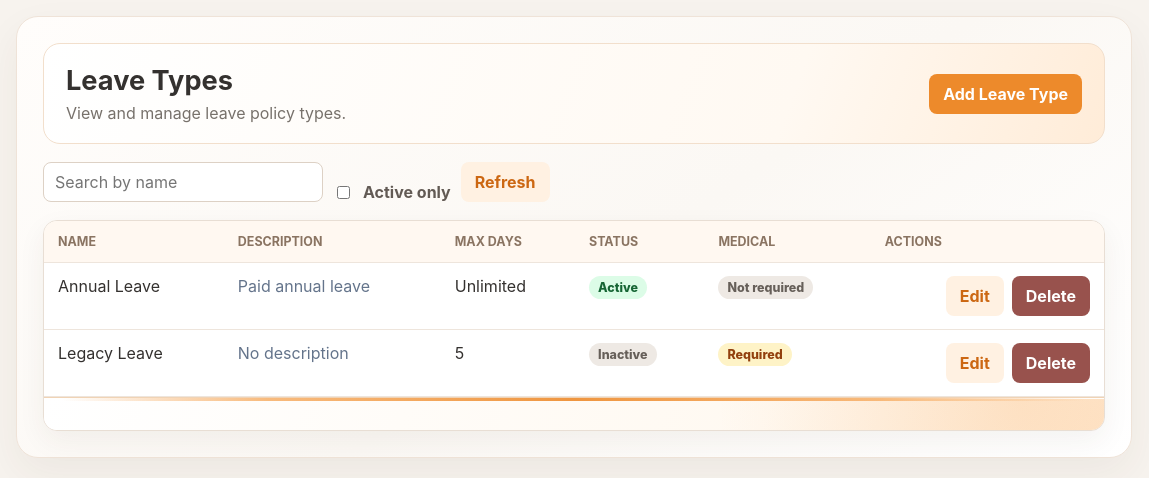
it: LeaveTypeListComponent › loads leave types with badges and active filtering
Step 1. Click the checkbox labelled "Active only" → (344, 192), box [337, 186, 350, 198]
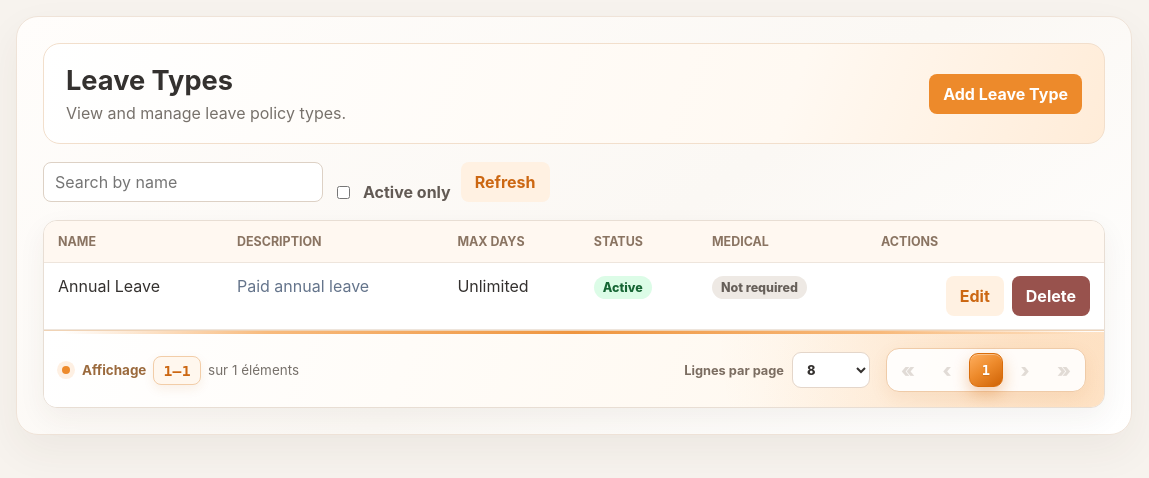
Expected: the text "Annual Leave" is shown, [44, 262, 223, 330]
Expected: the text "Legacy Leave" is gone
